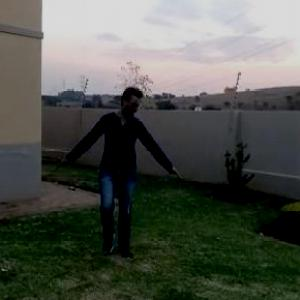land: (55, 86, 188, 265)
